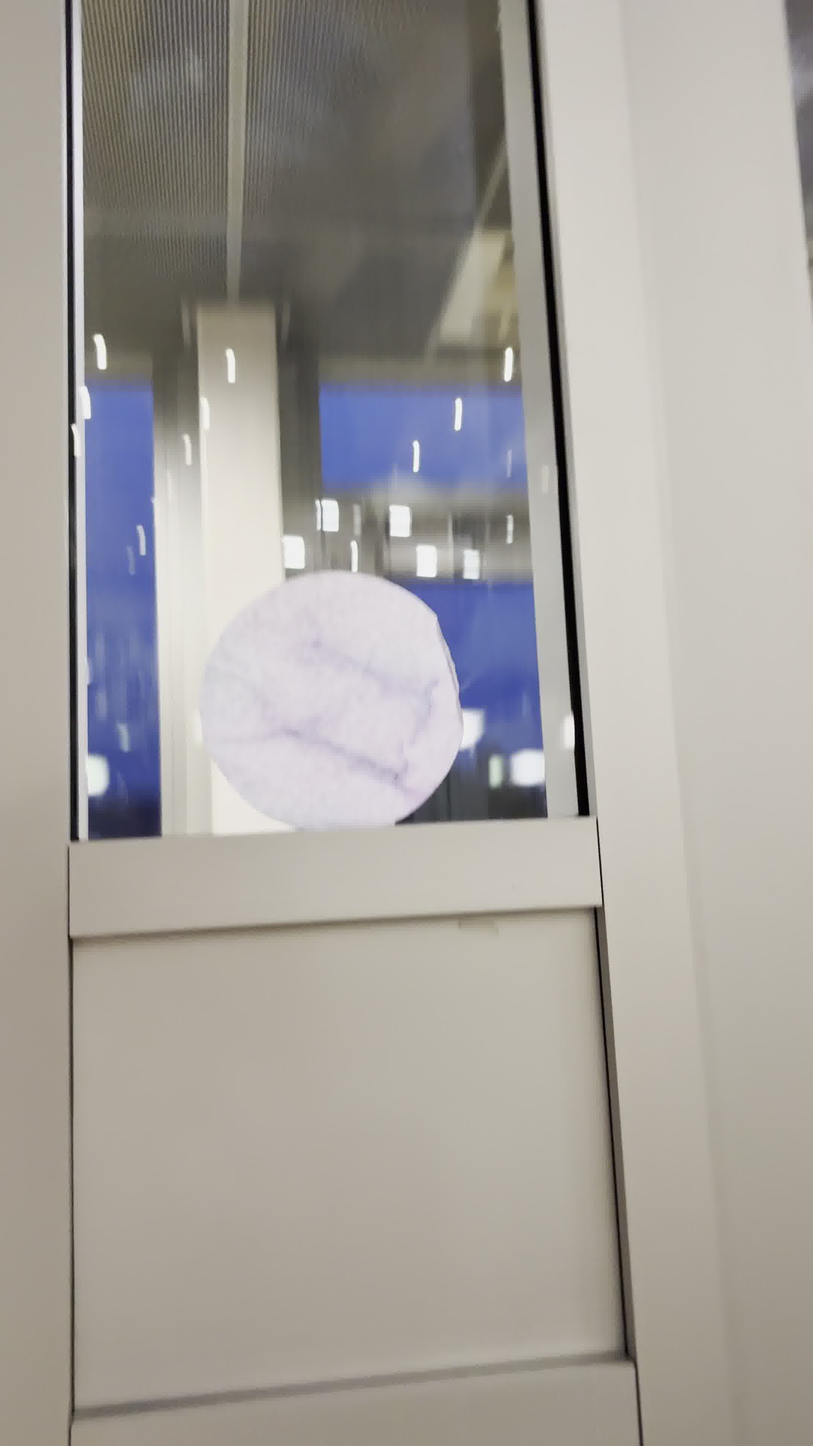Target: (196, 572, 467, 831)
